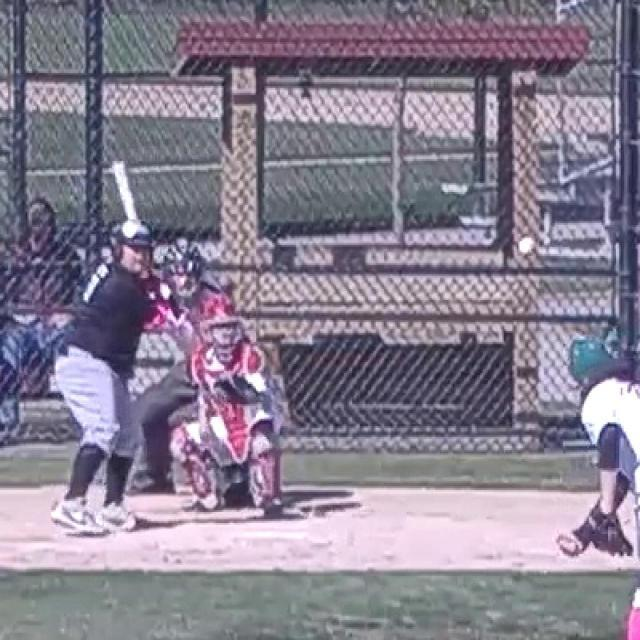ball: (520, 236, 540, 260)
bat: (112, 161, 140, 221)
